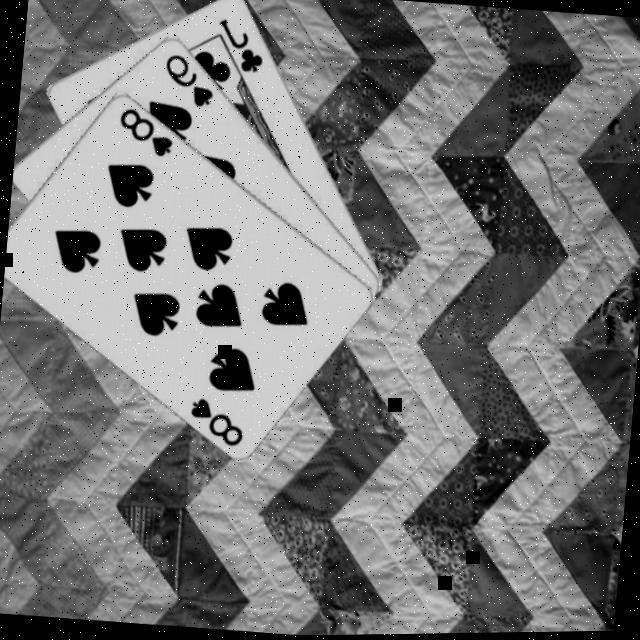8S: (113, 104, 179, 164), (185, 394, 249, 454)
9S: (159, 51, 220, 113)
JC: (212, 16, 270, 78)
